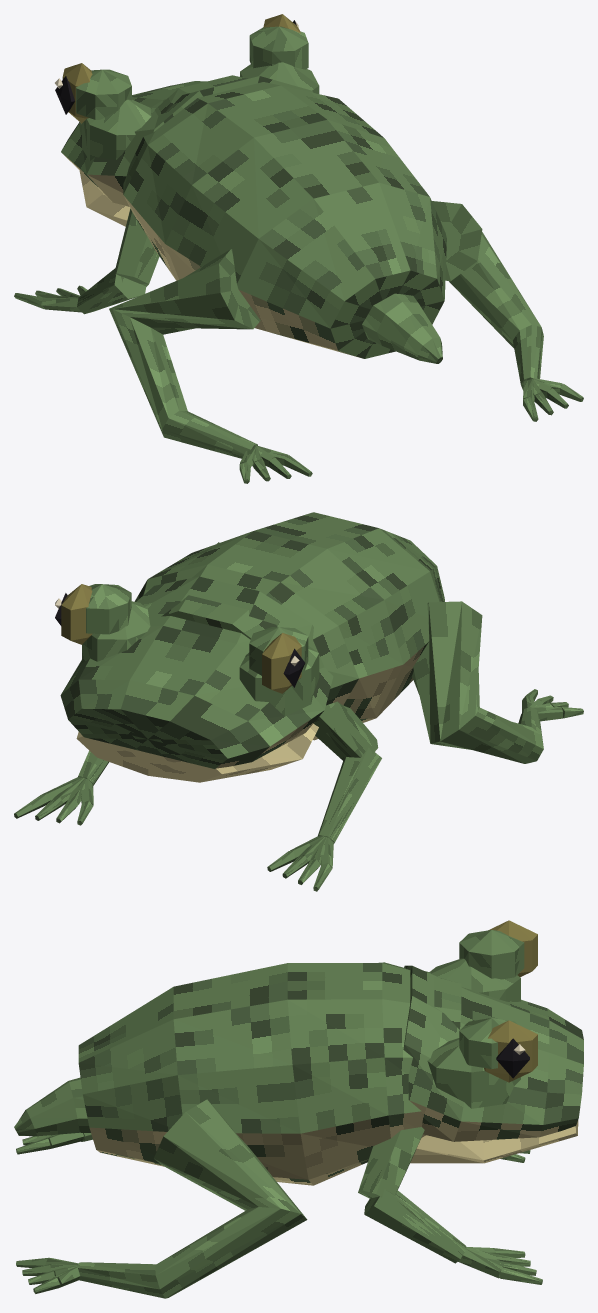
The model's file is mon_strange_frog.glb.
3 views of the same model, one above another, from view 1: azimuth 30°, elevation 25°; view 2: azimuth 150°, elevation 25°; view 3: azimuth 270°, elevation 25° (orthographic). The views are drawn at different scales.
Visible parts, largest first — view 1: closed_body; view 2: closed_body; view 3: closed_body.
Part boxes in pixels (x1,y1,x2,y2): closed_body: [14, 14, 583, 483]; closed_body: [14, 512, 583, 891]; closed_body: [14, 920, 583, 1298].
Bounding box in the file's own units: 0.3629 × 0.214 × 0.4594.
1 material, 1 textured.
